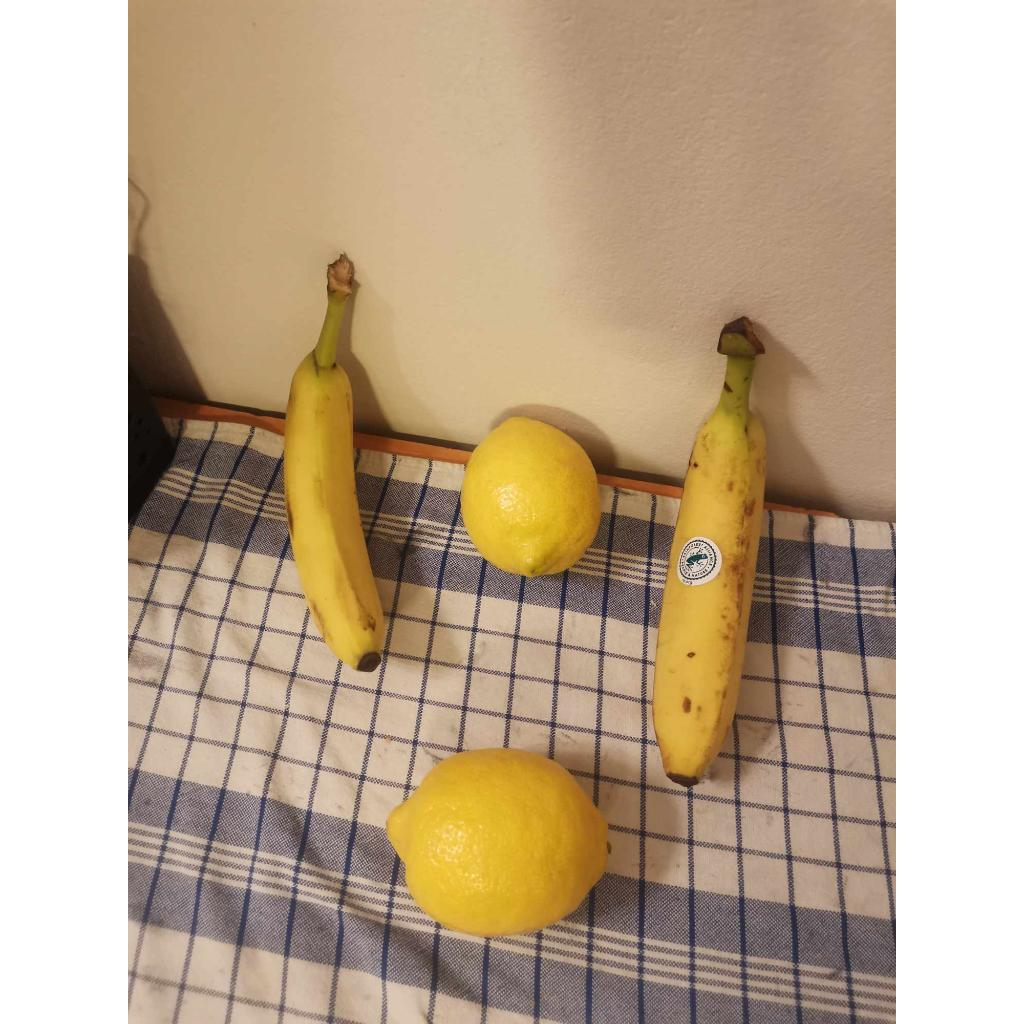banana: (652, 316, 766, 786), (284, 254, 384, 672)
lemon: (386, 748, 608, 936), (460, 416, 600, 576)
